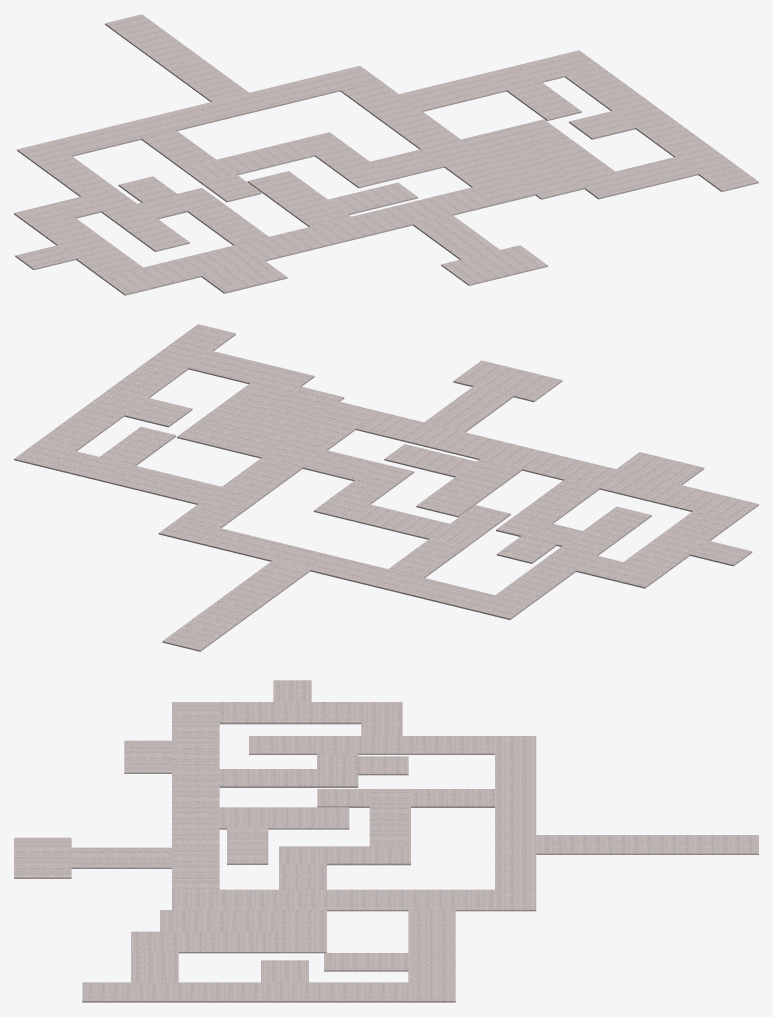
The model's file is Floor.obj.
3 renders of one model, top to bottom at view 1: azimuth 30°, elevation 25°; view 2: azimuth 150°, elevation 25°; view 3: azimuth 270°, elevation 25°, orthographic. The views are drawn at different scales.
Visible parts, largest first — view 1: Floor4, Floor13, Floor17, Floor15, Floor18, Floor11, Floor12, Floor5, Floor27, Floor3, Floor26, Floor16 (+17 smaller); view 2: Floor4, Floor13, Floor17, Floor15, Floor18, Floor11, Floor12, Floor27, Floor5, Floor3, Floor26, Floor16 (+17 smaller); view 3: Floor4, Floor13, Floor17, Floor15, Floor11, Floor18, Floor12, Floor5, Floor27, Floor3, Floor26, Floor7 (+17 smaller).
Boxes of the visible parts, x1,y1,x2,y2 form: Floor4: (102, 187, 495, 295); Floor13: (17, 66, 379, 164); Floor17: (340, 80, 535, 204); Floor15: (565, 67, 758, 191); Floor18: (399, 50, 601, 111); Floor11: (37, 155, 189, 251); Floor12: (105, 14, 248, 101); Floor5: (528, 136, 638, 199); Floor27: (34, 217, 142, 278); Floor3: (247, 171, 350, 226); Floor26: (484, 146, 584, 199); Floor16: (182, 140, 314, 183); Floor4: (355, 411, 758, 522); Floor13: (158, 518, 530, 619); Floor17: (179, 401, 378, 528); Floor15: (37, 324, 235, 451); Floor18: (14, 442, 221, 504); Floor11: (495, 506, 651, 604); Floor12: (162, 560, 310, 651); Floor27: (623, 511, 735, 573); Floor5: (201, 366, 314, 429); Floor3: (416, 459, 522, 517); Floor26: (242, 386, 344, 439); Floor16: (349, 504, 485, 548); Floor4: (172, 702, 219, 889); Floor13: (495, 736, 536, 911); Floor17: (172, 889, 494, 911); Floor15: (82, 982, 408, 1002); Floor11: (249, 736, 494, 754); Floor18: (408, 909, 455, 1002); Floor12: (536, 835, 758, 854); Floor5: (131, 931, 278, 953); Floor27: (219, 702, 361, 724); Floor3: (219, 807, 349, 829); Floor26: (160, 910, 278, 931); Floor7: (279, 846, 410, 865).
Size of the model in its own units: 477 by 1 by 468.
Materials: 1 (1 with a texture image).
